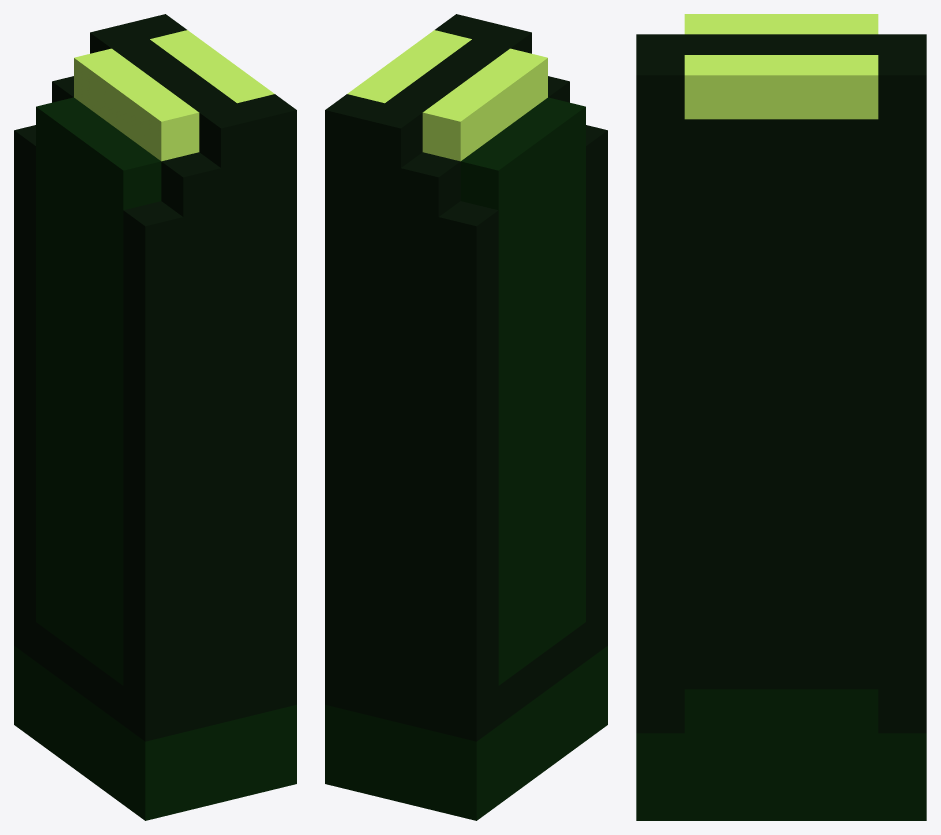
The model's file is grenade launcher-3.obj.
3 renders of one model, left to right at view 1: azimuth 30°, elevation 25°; view 2: azimuth 150°, elevation 25°; view 3: azimuth 270°, elevation 25°, orthographic. The views are drawn at different scales.
Size of the model in its own units: 0.4 by 1.7 by 0.6.
1 material, 1 textured.
